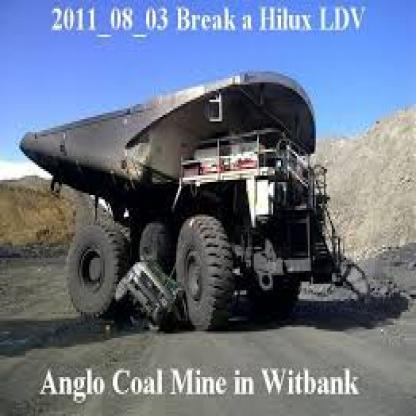dump_truck: (19, 60, 357, 332)
light_vehicle: (114, 256, 188, 338)
